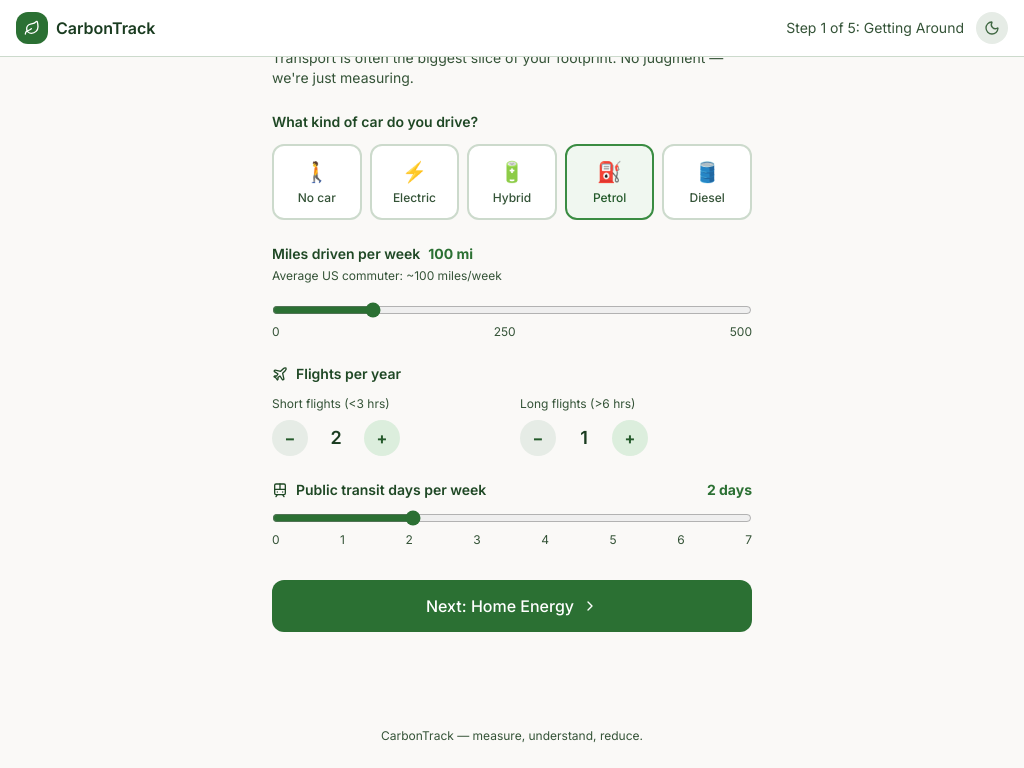
Test case: AssessmentFlow › step tab navigation back: clicking previous tab navigates back
The image size is (1024, 768).
(page scrolled)
Click the button "Next: Home Energy".
click(512, 606)  # box [272,580,752,632]
(page scrolled)
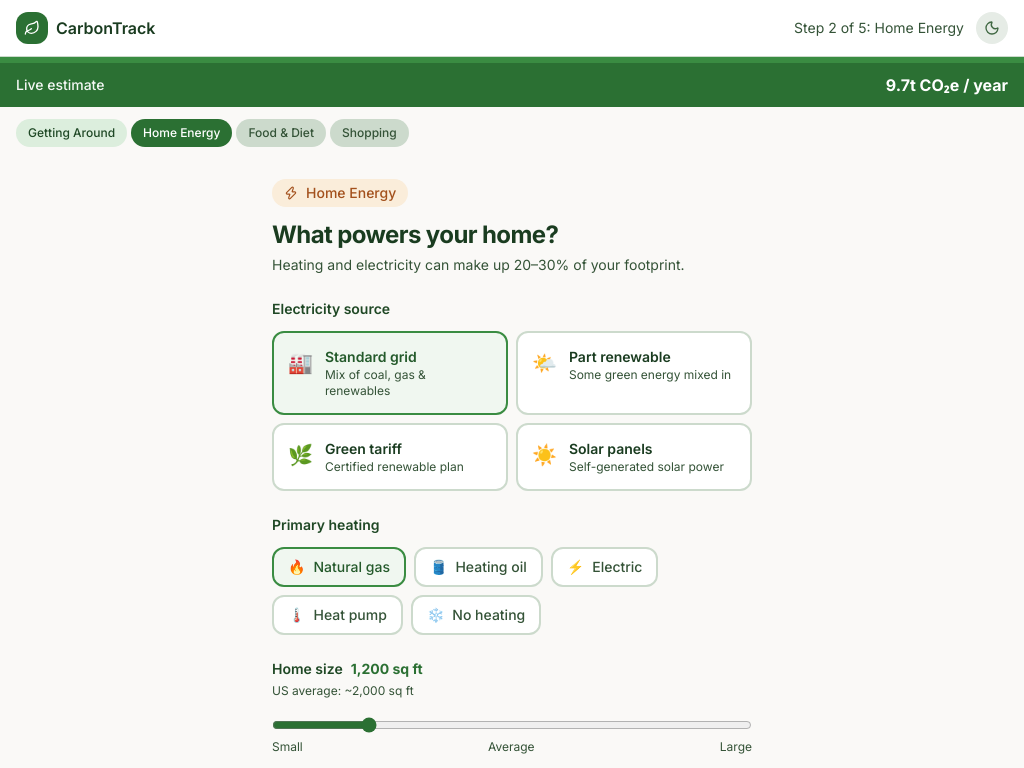
Click the button "Getting Around".
click(72, 133)  # box [16,119,127,147]
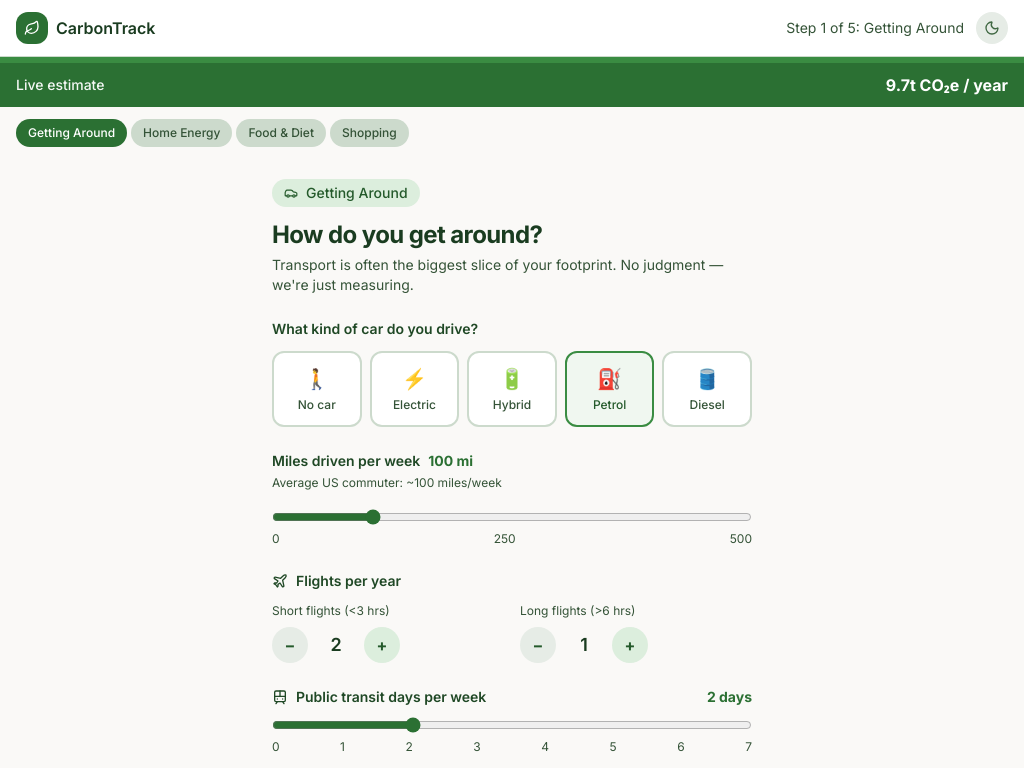
Result: the heading "How do you get around?" is shown at [272,220,542,249]
